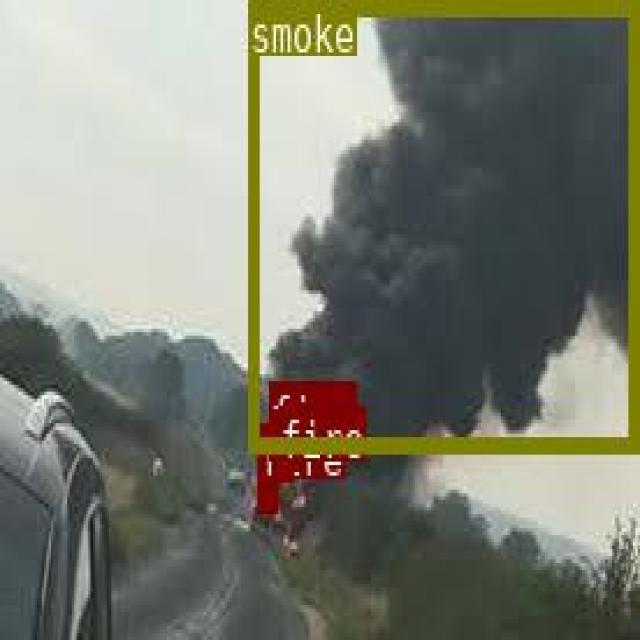fire: (256, 478, 276, 508), (268, 437, 287, 455), (276, 459, 290, 477)
smoke: (246, 0, 635, 448)
